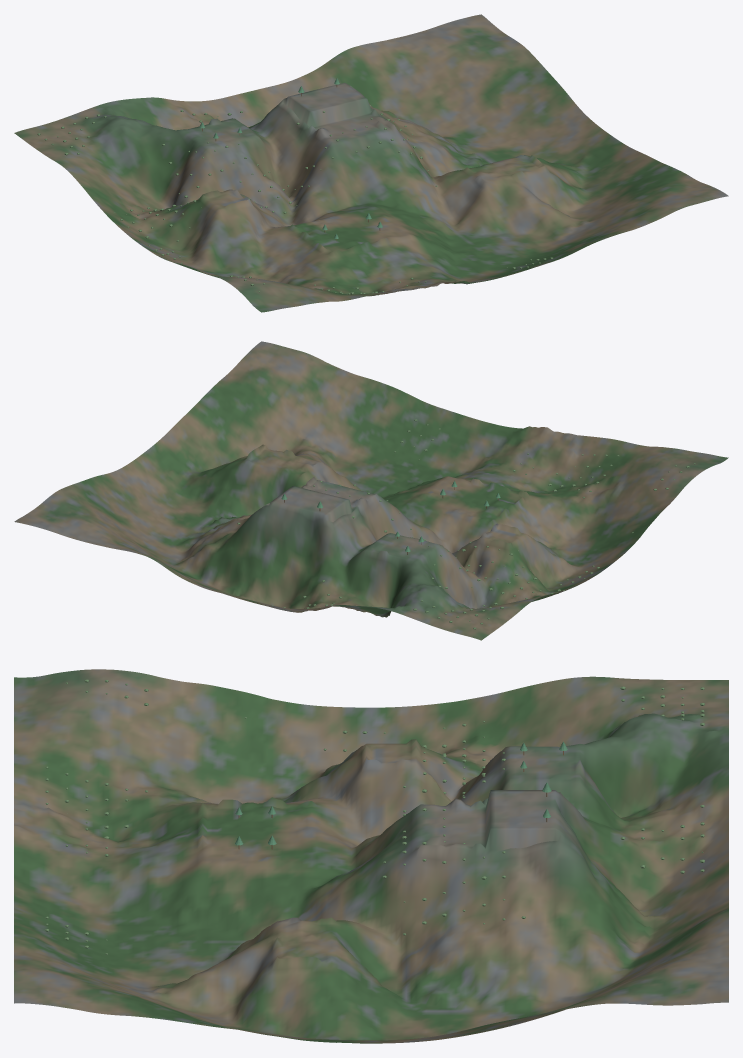
File: mountain_realm.glb
3 renders of one model, top to bottom at view 1: azimuth 30°, elevation 25°; view 2: azimuth 150°, elevation 25°; view 3: azimuth 270°, elevation 25°, orthographic. The views are drawn at different scales.
Parts seen in each view (by area): view 1: Terrain; view 2: Terrain; view 3: Terrain.
Boxes of the visible parts, x1,y1,x2,y2 form: Terrain: [14, 14, 728, 312]; Terrain: [14, 341, 728, 640]; Terrain: [14, 669, 728, 1043].
Size of the model in its own units: 236 by 40.91 by 216.
